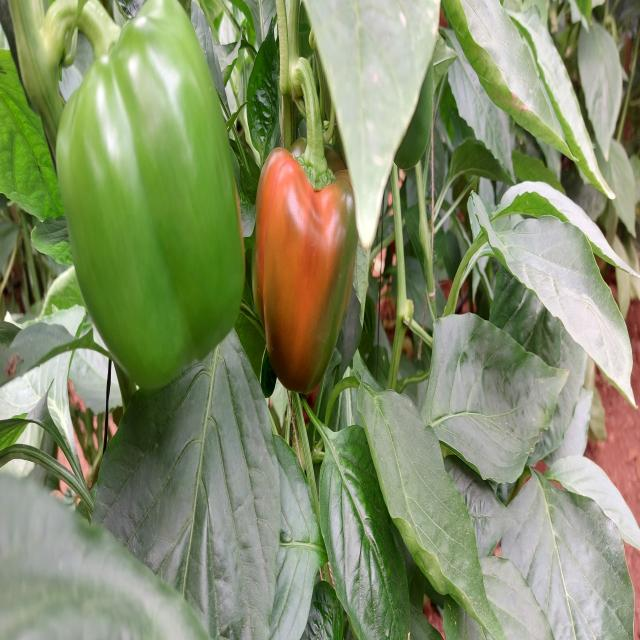BrownishRed--Can-be-Harvested: (251, 150, 359, 400)
Green--Not-ready-to-harvest: (55, 0, 241, 404)
